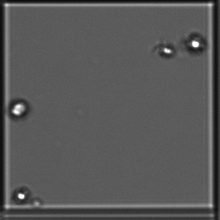Living Cell: (8, 97, 31, 121), (185, 29, 205, 56), (12, 185, 31, 205), (157, 39, 173, 58)
